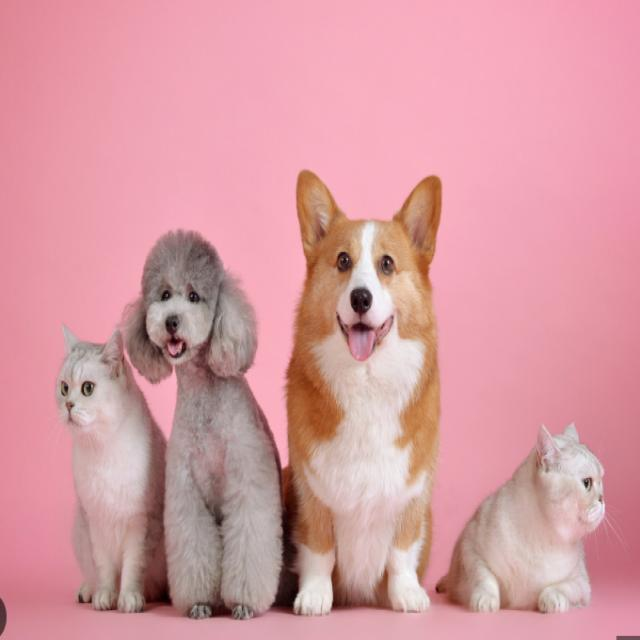cats: (475, 379, 620, 618), (51, 318, 150, 602)
dogs: (285, 162, 476, 624), (127, 224, 290, 621)
